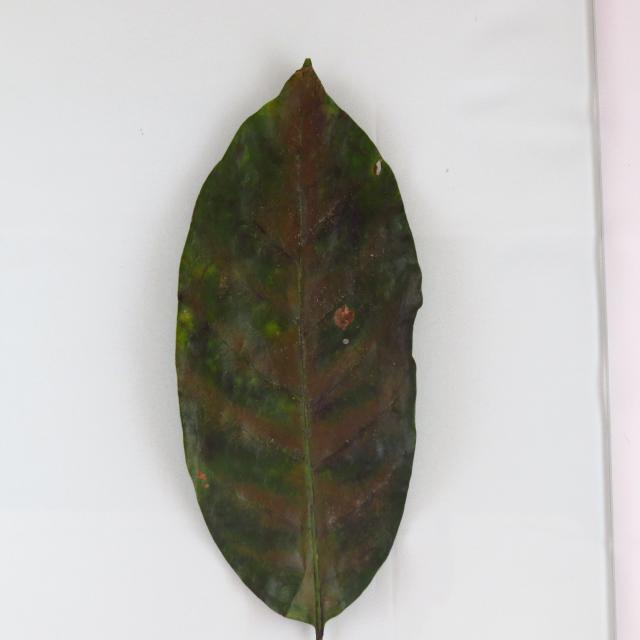DeficienciaNutricional-Fosforo: (176, 60, 422, 638)
